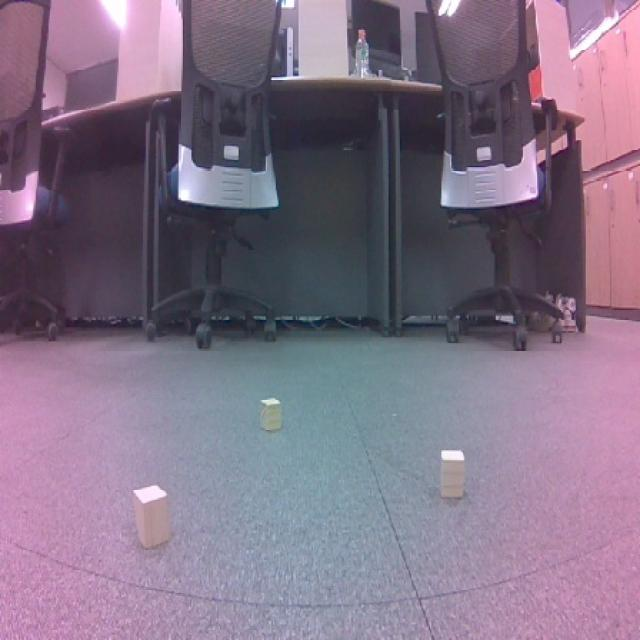obstacle: (124, 477, 186, 551), (432, 443, 474, 508), (252, 392, 288, 441)
